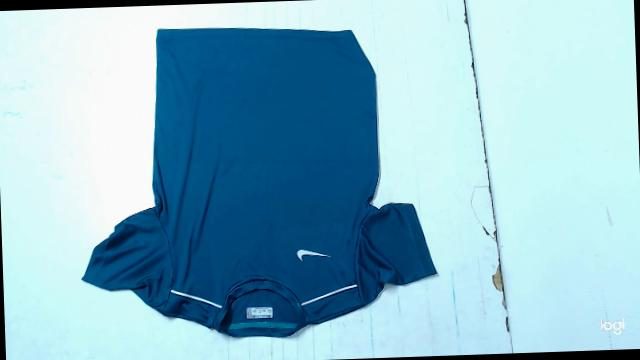new-garment: (83, 28, 436, 337)
